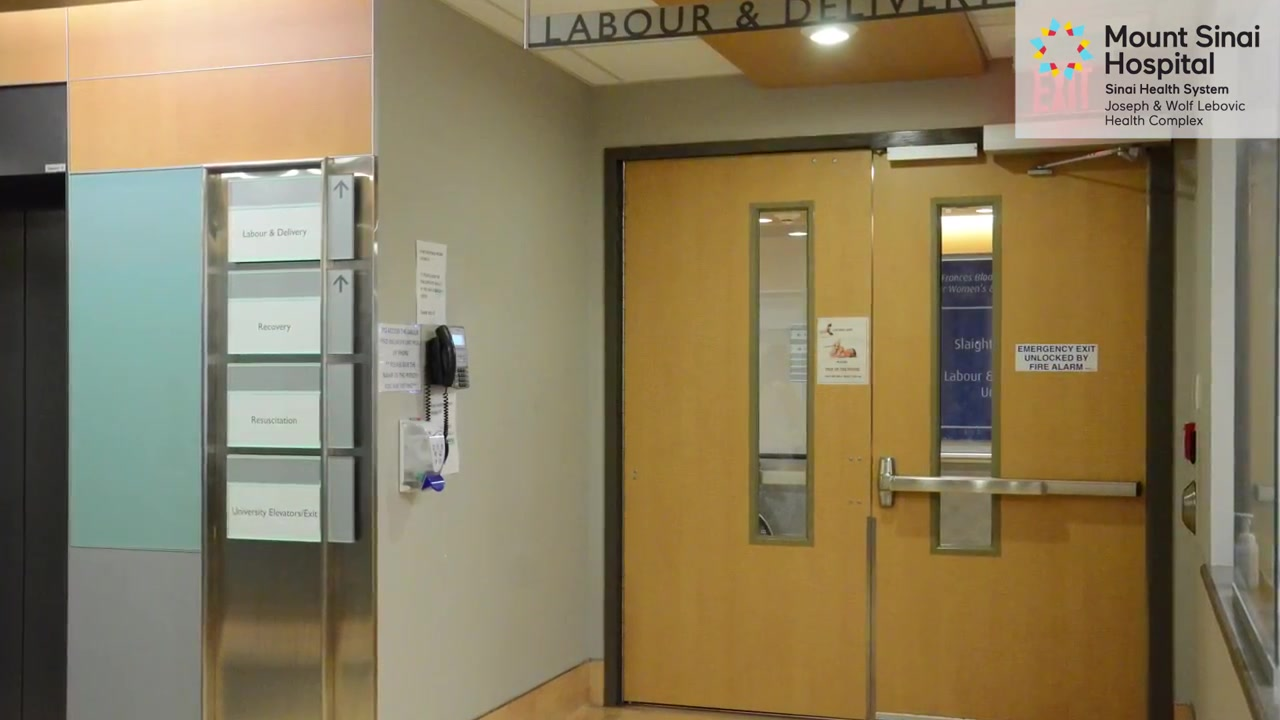dispenser: (398, 419, 446, 492)
push_latch: (876, 452, 1138, 504)
telephone: (423, 323, 471, 421)
